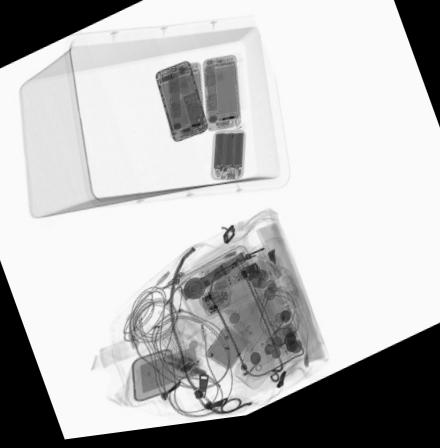Powerbank: (210, 134, 245, 187)
